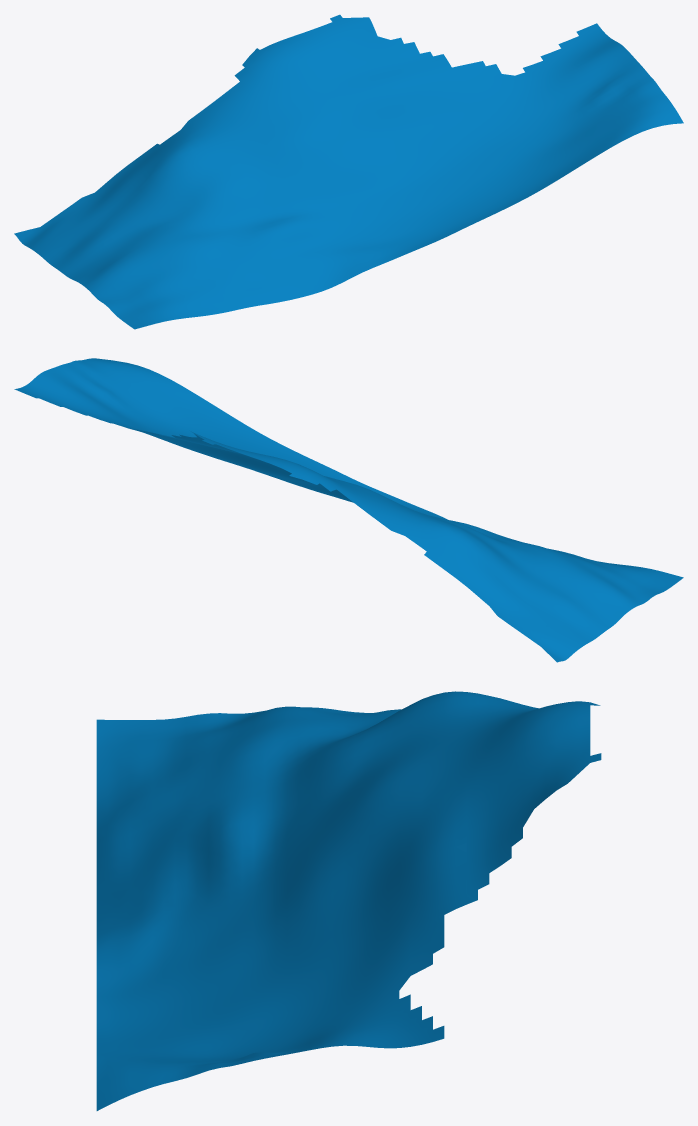
Rendered from jura.dae.
3 renders of one model, top to bottom at view 1: azimuth 30°, elevation 25°; view 2: azimuth 150°, elevation 25°; view 3: azimuth 270°, elevation 25°, orthographic. The views are drawn at different scales.
Visible parts, largest first — view 1: Jura; view 2: Jura; view 3: Jura.
Boxes of the visible parts, x1,y1,x2,y2 form: Jura: (14,14,683,329); Jura: (14,358,683,662); Jura: (96,691,601,1110).
Size of the model in its own units: 199 by 79.1 by 51.98.
